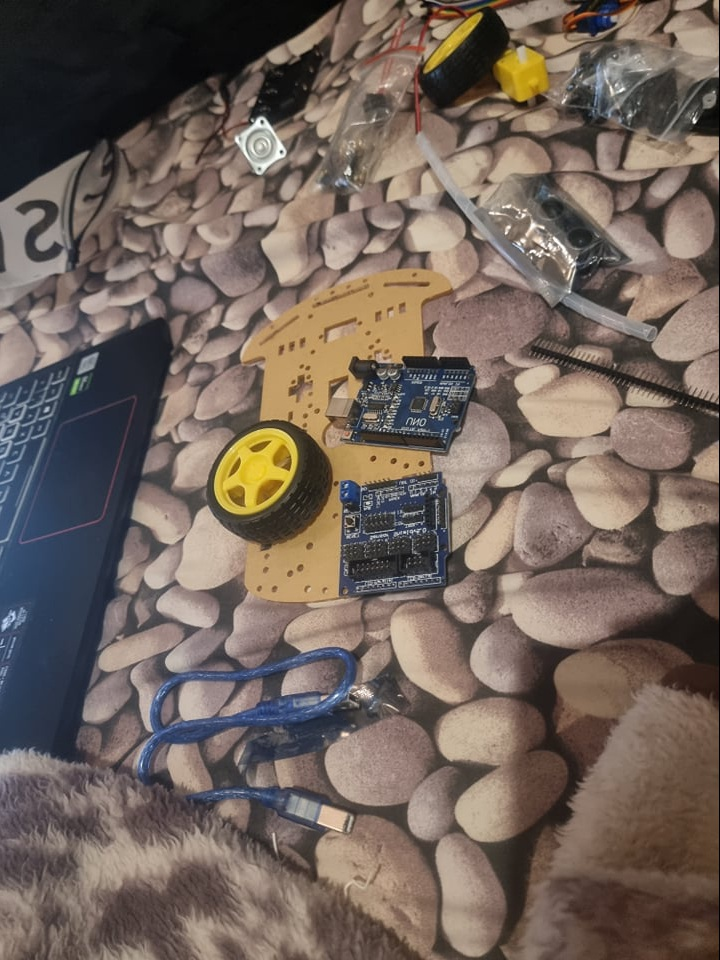5V EXPANSION: (338, 473, 452, 599)
BATTERY BOX: (251, 39, 319, 125)
SENSOR: (532, 195, 609, 264)
UNO R3: (329, 353, 469, 455)
